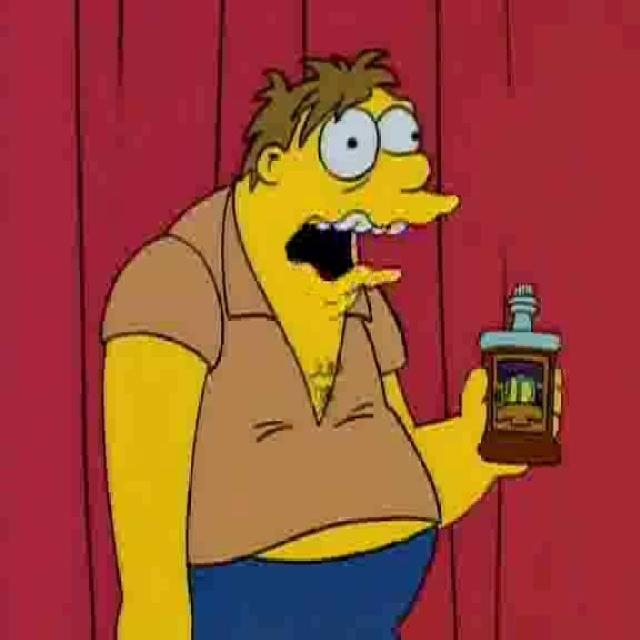Barney Gumble: (233, 42, 464, 315)
